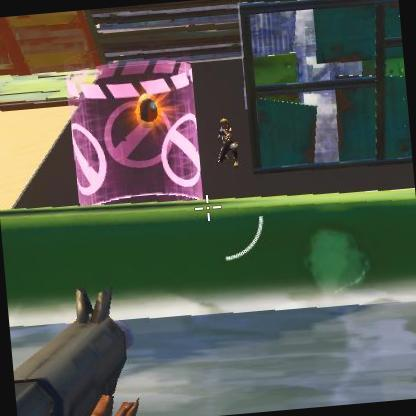person: (212, 117, 242, 171)
